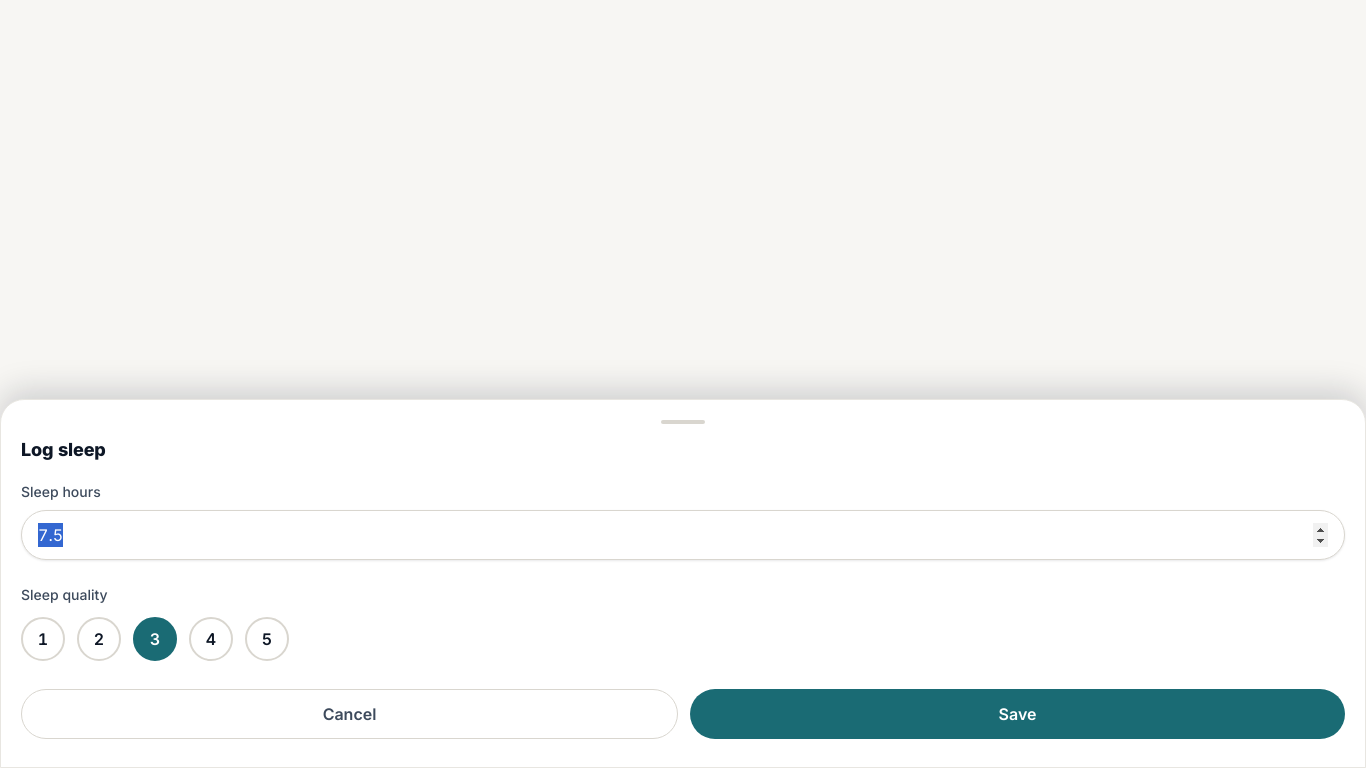
Test: QuickLogSleepSheet › shows an inline error and keeps the sheet open on API failure
This screenshot has width=1366, height=768.
Click the button "Save" at (1018, 714), box [690,689,1345,739]
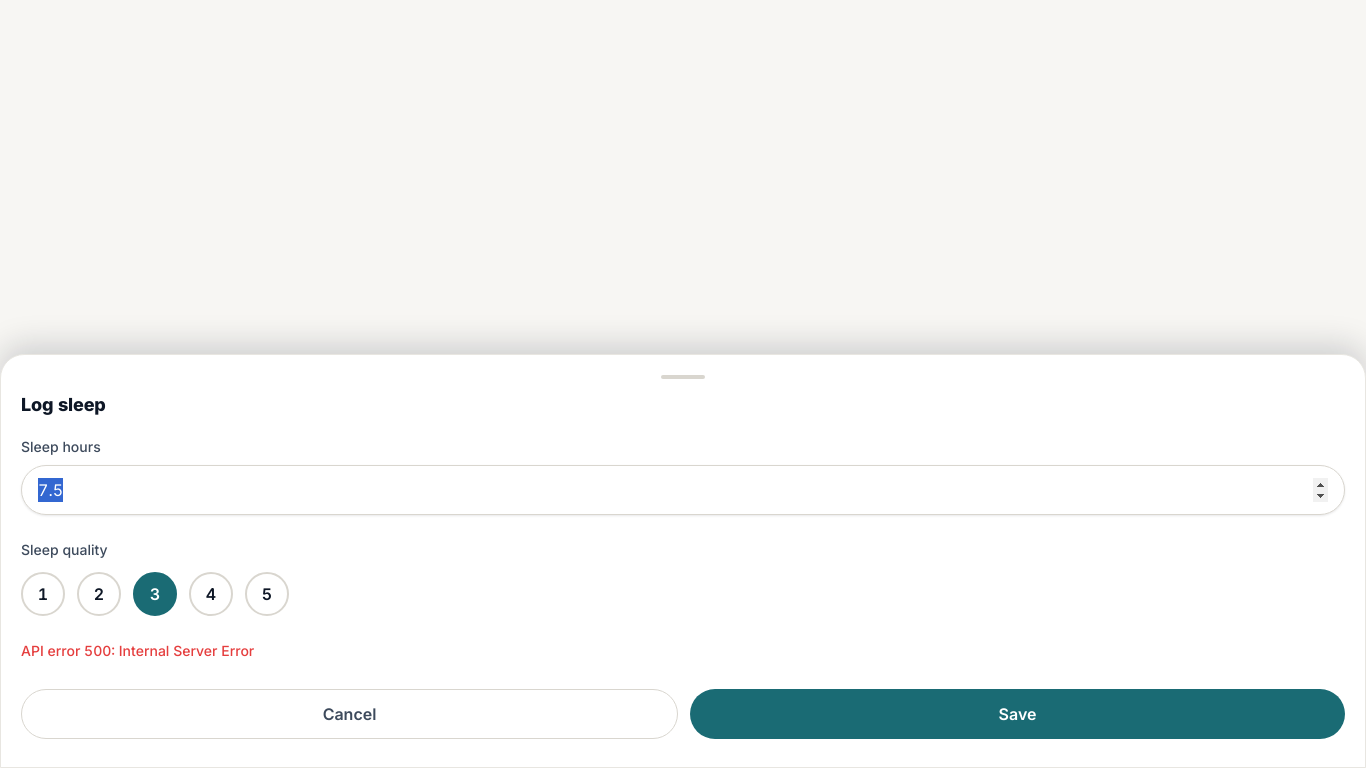
expect the message "API error 500: Internal Server Error" is shown: met, box [21,642,254,659]
